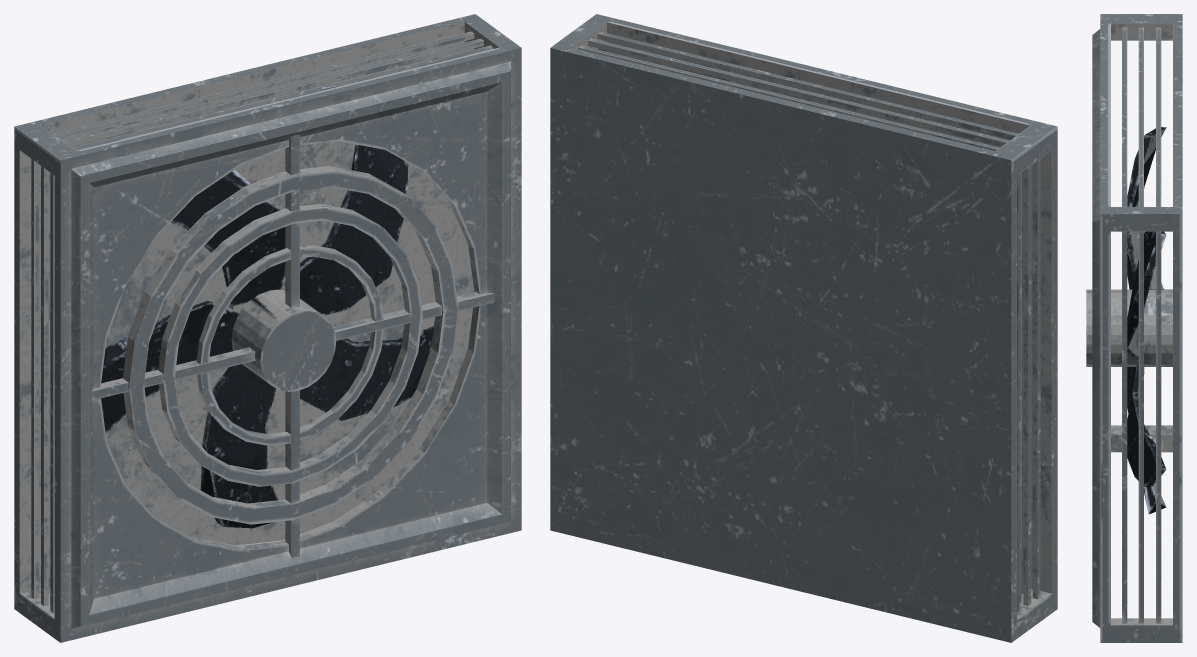
The model's file is FanBlue.gltf.
The picture shows the model from 3 angles, left to right: view 1: azimuth 30°, elevation 25°; view 2: azimuth 150°, elevation 25°; view 3: azimuth 270°, elevation 25°; orthographic projection. The views are drawn at different scales.
Visible parts, largest first — view 1: Belki, Ostrza; view 2: Belki; view 3: Belki, Ostrza.
Boxes of the visible parts, bbox=[...] form: Belki: bbox=[14, 14, 521, 642]; Ostrza: bbox=[101, 144, 433, 528]; Belki: bbox=[550, 14, 1057, 642]; Belki: bbox=[1086, 14, 1182, 642]; Ostrza: bbox=[1127, 127, 1166, 514].
Bounding box in the file's own units: 2 × 2 × 0.4069.
1 material, 1 textured.
